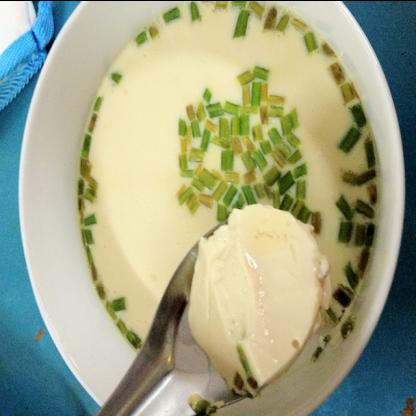Kaithoon: (37, 1, 399, 399)
